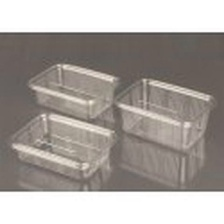plastic_box: (108, 71, 222, 157), (5, 107, 124, 186), (21, 57, 123, 126)
